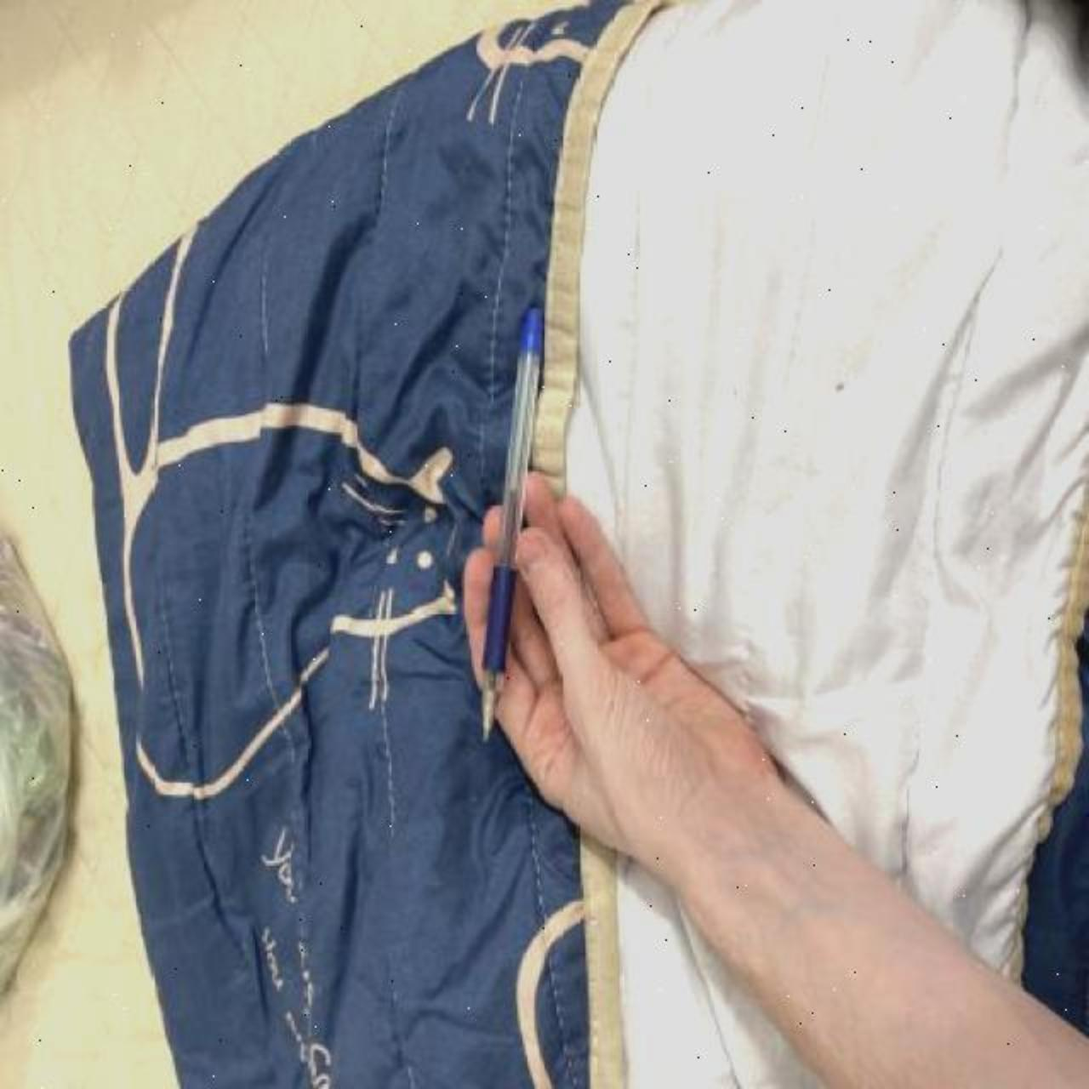pen: (480, 305, 546, 742)
